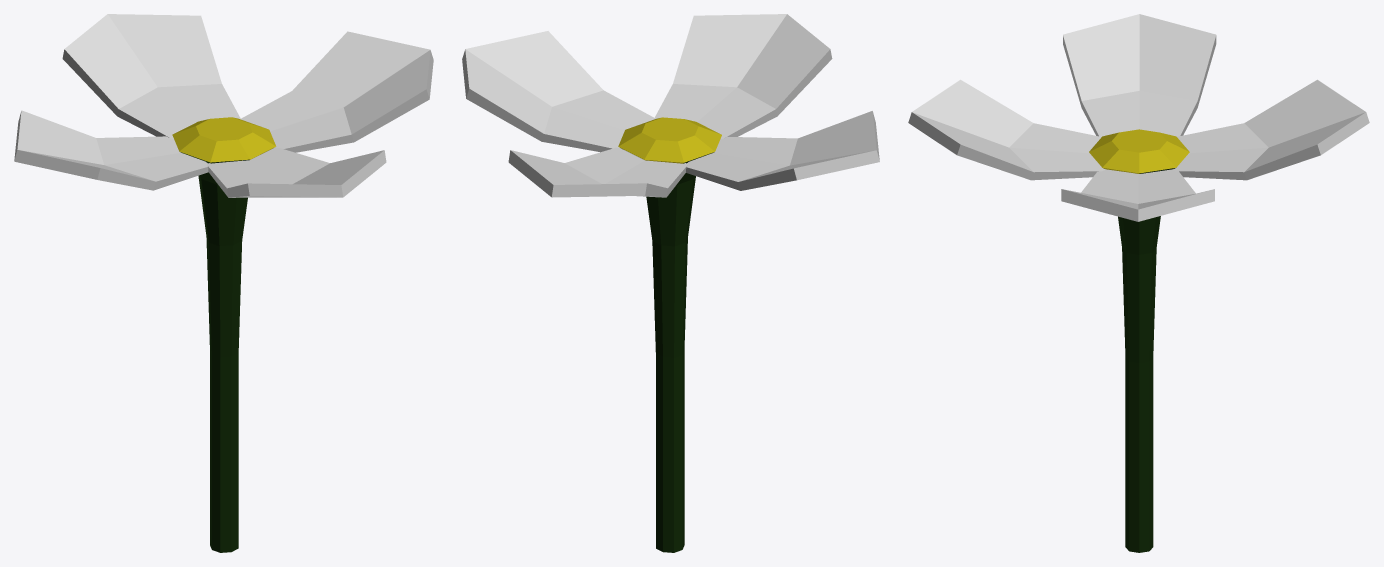
Rendered from flower3.fbx.
3 views of the same model, side by side, from view 1: azimuth 30°, elevation 25°; view 2: azimuth 150°, elevation 25°; view 3: azimuth 270°, elevation 25° (orthographic). The views are drawn at different scales.
Parts seen in each view (by area): view 1: Plane.001, Cube.043, Cube.044, Cube.045, Cube.046; view 2: Plane.001, Cube.046, Cube.044, Cube.045, Cube.043; view 3: Cube.045, Plane.001, Cube.046, Cube.043, Cube.044.
Part boxes in pixels (x1,y1,x2,y2): Plane.001: (172, 117, 276, 552); Cube.043: (62, 14, 240, 138); Cube.044: (241, 31, 433, 152); Cube.045: (14, 110, 208, 190); Cube.046: (207, 147, 386, 197); Plane.001: (618, 117, 721, 552); Cube.046: (653, 14, 832, 138); Cube.044: (462, 31, 654, 152); Cube.045: (686, 111, 879, 190); Cube.043: (508, 147, 687, 197); Cube.045: (1063, 14, 1216, 136); Plane.001: (1089, 129, 1189, 552); Cube.046: (908, 79, 1106, 180); Cube.043: (1171, 79, 1369, 180); Cube.044: (1061, 169, 1214, 221).
Size of the model in its own units: 3343 by 3414 by 3283.
